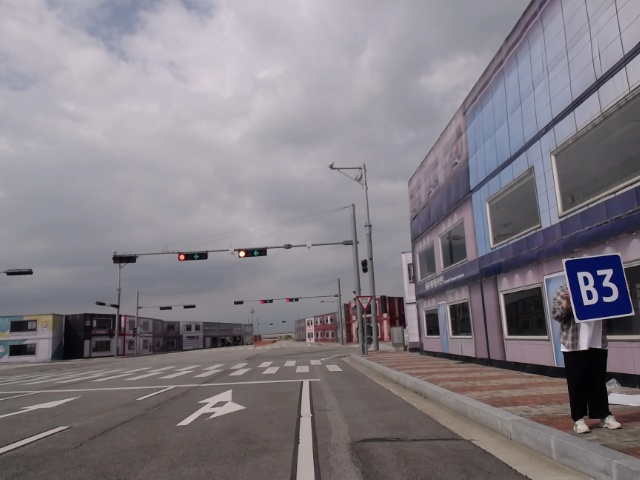delivery_b3: (564, 253, 636, 323)
left_green_4: (176, 250, 209, 262), (236, 247, 270, 258), (284, 297, 302, 303), (259, 299, 275, 305)
